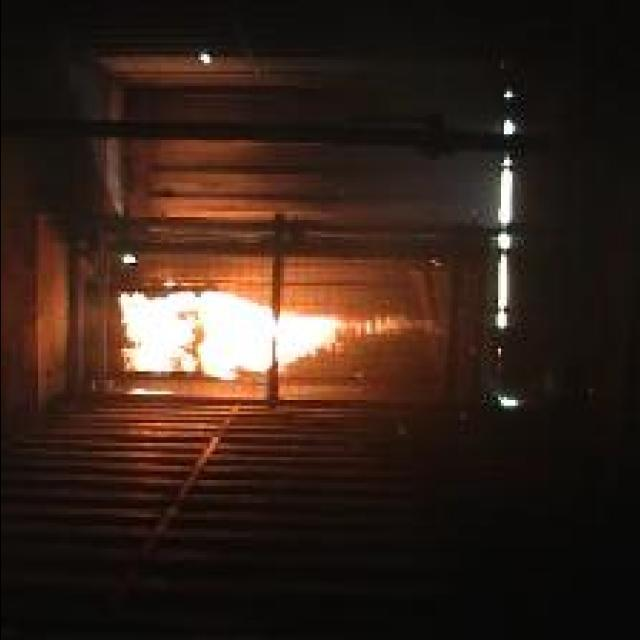Fire: (118, 292, 436, 379)
